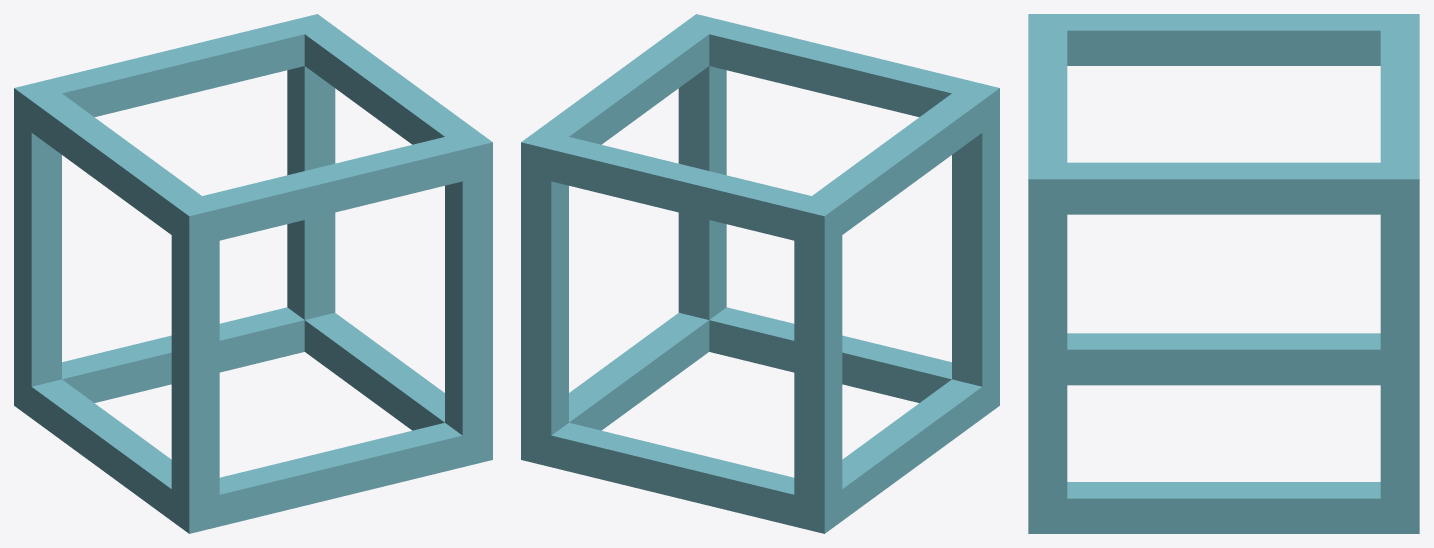
3 views of the same model, side by side, from view 1: azimuth 30°, elevation 25°; view 2: azimuth 150°, elevation 25°; view 3: azimuth 270°, elevation 25° (orthographic). The views are drawn at different scales.
Visible parts, largest first — view 1: Default; view 2: Default; view 3: Default.
Part boxes in pixels (box(x1,y1,x2,y2)): Default: box(14, 14, 492, 533); Default: box(521, 14, 999, 533); Default: box(1028, 14, 1419, 533).
Size of the model in its own units: 25.4 by 25.4 by 25.4.
1 material, 1 textured.
